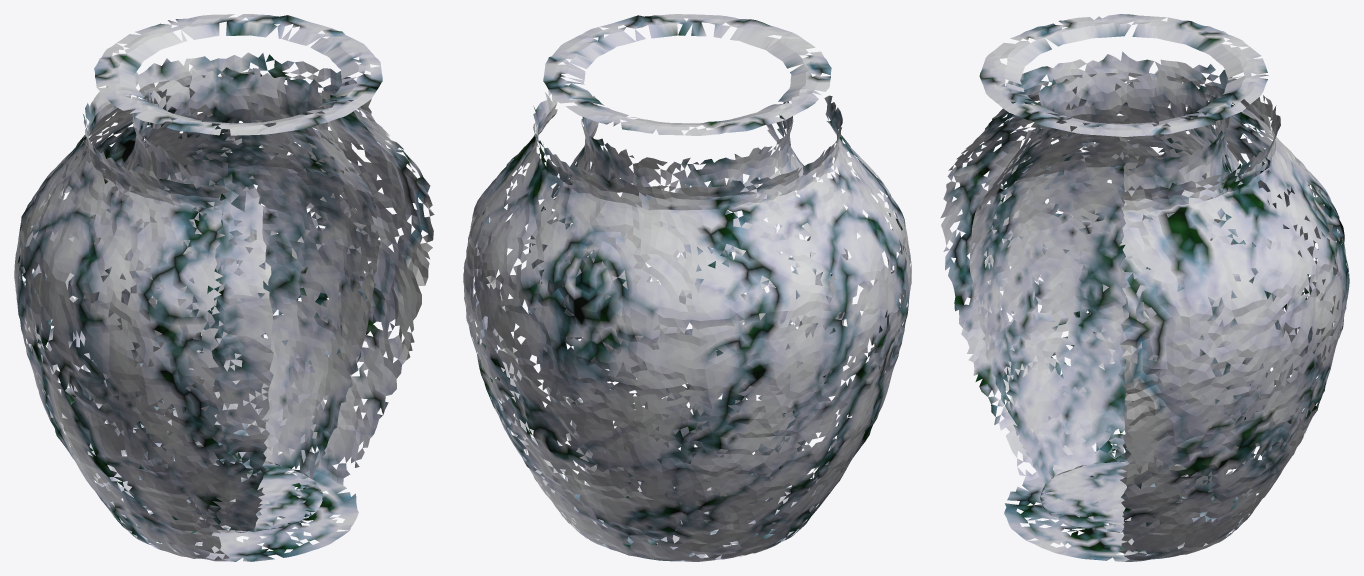
The model's file is vase2_final600.obj.
3 views of the same model, side by side, from view 1: azimuth 30°, elevation 25°; view 2: azimuth 150°, elevation 25°; view 3: azimuth 270°, elevation 25° (orthographic).
Size of the model in its own units: 1.62 by 1.74 by 1.47.
